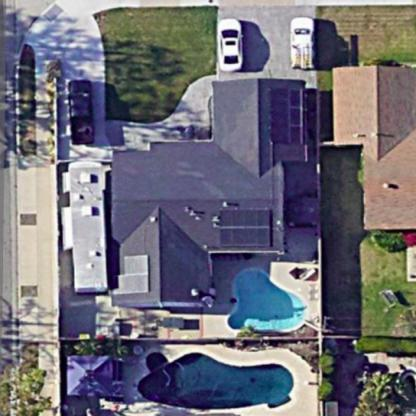car: (63, 156, 113, 295), (56, 67, 106, 150), (287, 13, 317, 72), (214, 14, 243, 74)
solar_panel: (262, 85, 307, 152), (214, 204, 276, 245), (115, 249, 152, 300)
swimming_pool: (133, 341, 301, 414), (219, 259, 329, 343)
